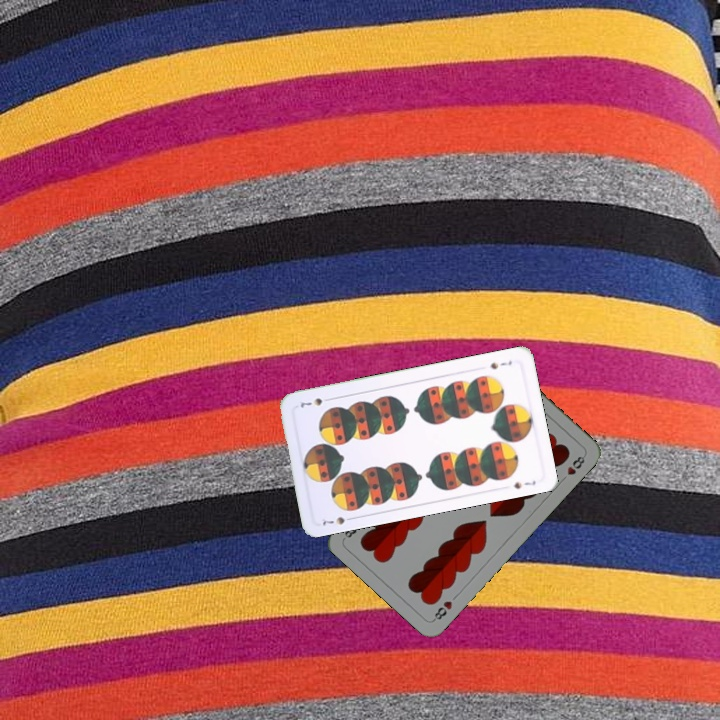H8: (429, 597, 455, 624)
S7: (486, 356, 514, 372), (318, 513, 347, 527)
